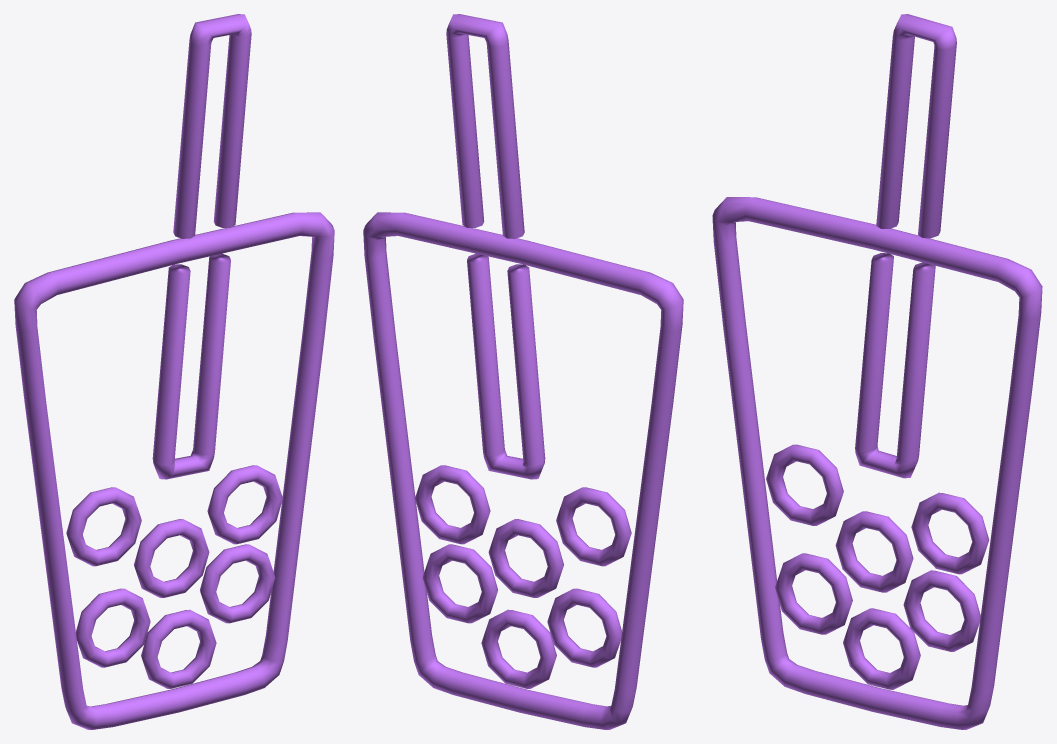
Rendered from BubbleTeaNeon_01.fbx.
3 views of the same model, side by side, from view 1: azimuth 30°, elevation 25°; view 2: azimuth 150°, elevation 25°; view 3: azimuth 330°, elevation 25° (orthographic). The views are drawn at different scales.
Parts seen in each view (by area): view 1: BubbleTeaNeon_01; view 2: BubbleTeaNeon_01; view 3: BubbleTeaNeon_01.
Part boxes in pixels (left/top/right/bottom): BubbleTeaNeon_01: left=14, top=14, right=334, bottom=729; BubbleTeaNeon_01: left=363, top=14, right=683, bottom=729; BubbleTeaNeon_01: left=712, top=14, right=1042, bottom=729.
Size of the model in its own units: 450 by 929 by 33.89.
